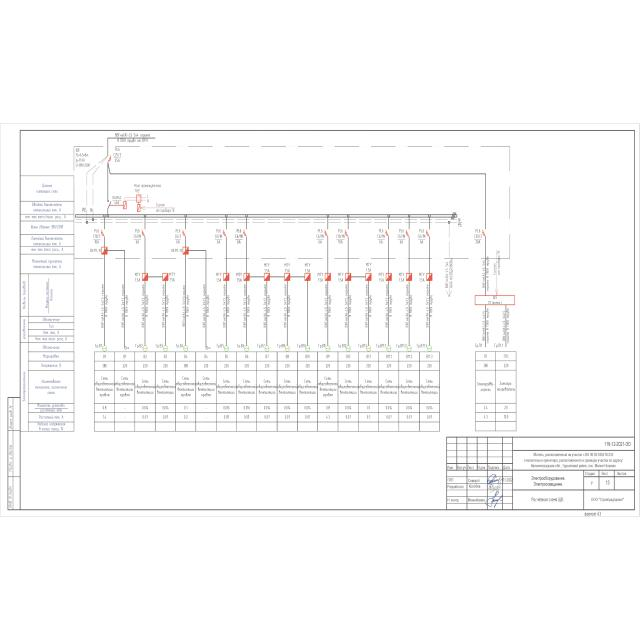-: (134, 183, 161, 194), (417, 228, 426, 246), (214, 227, 223, 245), (174, 228, 183, 246), (336, 228, 345, 245), (113, 146, 122, 163), (377, 228, 385, 246), (397, 228, 405, 246), (235, 227, 243, 245), (133, 228, 141, 246), (316, 228, 324, 245), (474, 228, 482, 245), (93, 228, 101, 245), (112, 194, 122, 205), (90, 247, 102, 254), (170, 248, 182, 254), (75, 147, 80, 152)
KM: (107, 200, 127, 209), (182, 246, 190, 255), (101, 246, 108, 255)
QF: (100, 228, 106, 238), (222, 228, 228, 238), (344, 228, 350, 238), (182, 227, 187, 238), (107, 154, 112, 164), (141, 228, 146, 238), (243, 228, 248, 238), (385, 228, 390, 238), (324, 228, 328, 239), (426, 228, 430, 239), (406, 228, 410, 238), (482, 228, 486, 238)
